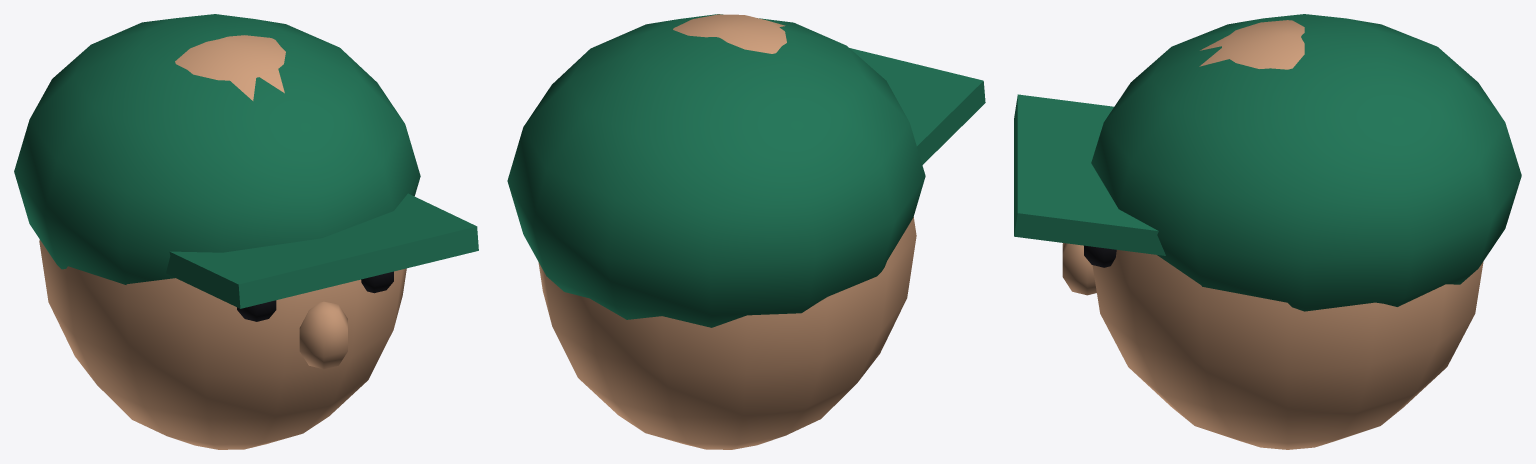
The model's file is Cabeza.obj.
3 renders of one model, left to right at view 1: azimuth 30°, elevation 25°; view 2: azimuth 150°, elevation 25°; view 3: azimuth 270°, elevation 25°, orthographic. The views are drawn at different scales.
Parts seen in each view (by area): view 1: Cabeza; view 2: Cabeza; view 3: Cabeza.
Part boxes in pixels (x1,y1,x2,y2): Cabeza: (14, 14, 478, 449); Cabeza: (507, 14, 985, 449); Cabeza: (1014, 14, 1521, 449).
Bounding box in the file's own units: 0.218 × 0.236 × 0.2711.
1 material, 1 textured.
